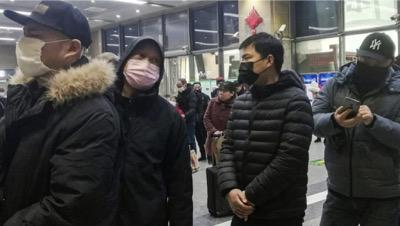with_mask: (14, 32, 64, 78), (122, 53, 161, 91), (355, 58, 388, 86), (236, 53, 265, 83), (176, 80, 185, 94), (168, 97, 177, 107), (192, 85, 201, 94)
without_mask: (218, 89, 230, 103)
